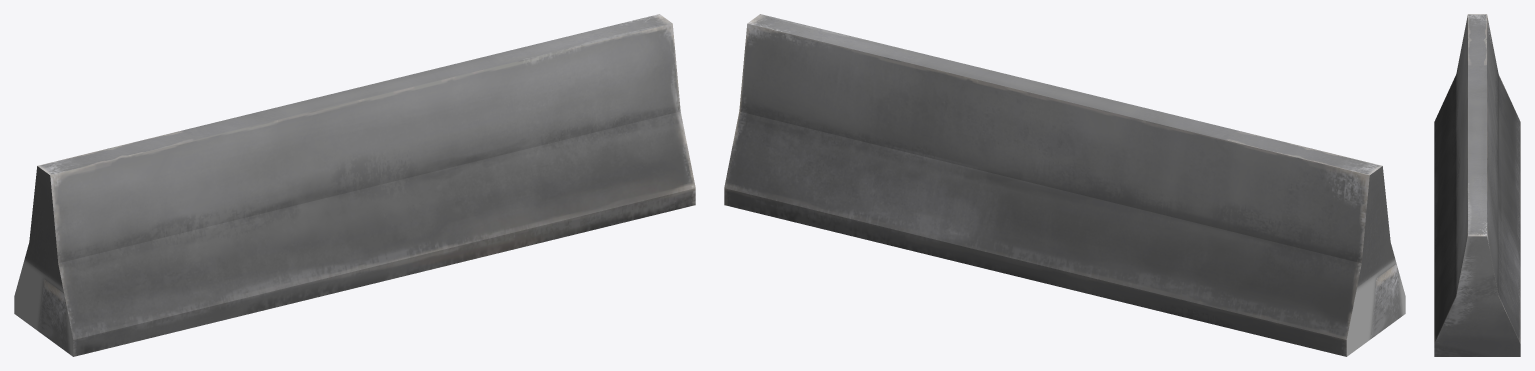
Rendered from barrage, 1.fbx.
3 renders of one model, left to right at view 1: azimuth 30°, elevation 25°; view 2: azimuth 150°, elevation 25°; view 3: azimuth 270°, elevation 25°, orthographic. The views are drawn at different scales.
Visible parts, largest first — view 1: Cube; view 2: Cube; view 3: Cube.
Boxes of the visible parts, x1,y1,x2,y2 form: Cube: (14,14,695,356); Cube: (724,14,1405,356); Cube: (1434,14,1520,356).
Size of the model in its own units: 212 by 53.69 by 34.91.
